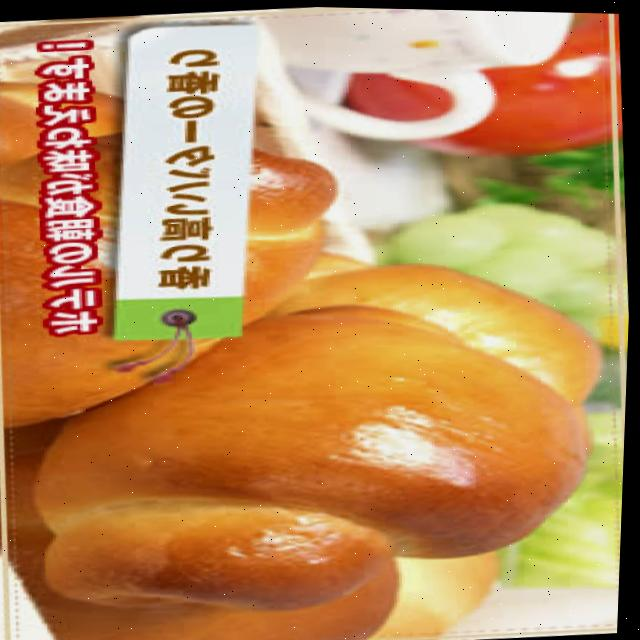面包点心: (32, 312, 622, 638)
